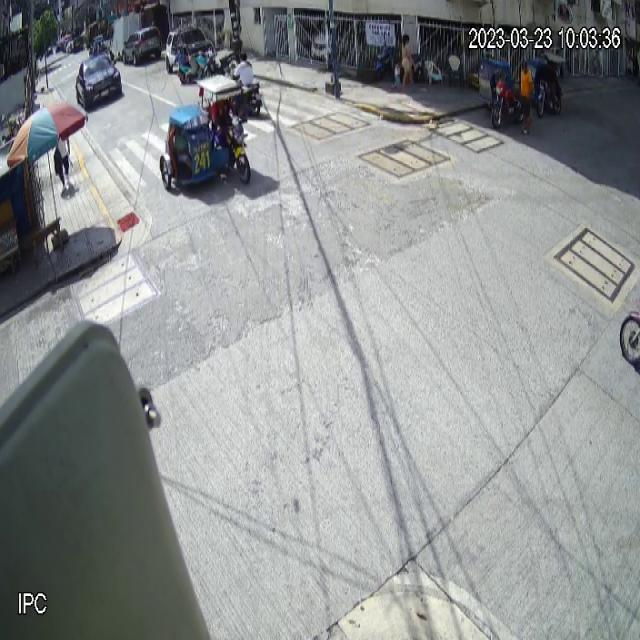Tricycle: (160, 73, 252, 192)
